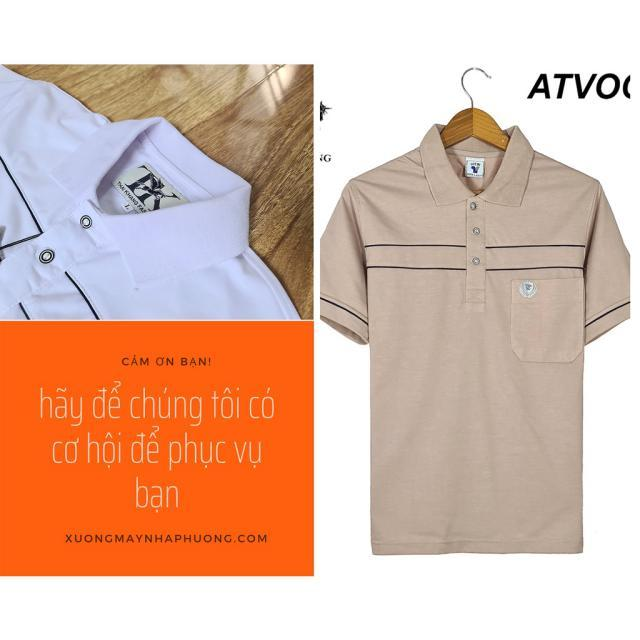Shirt: (322, 129, 634, 562)
